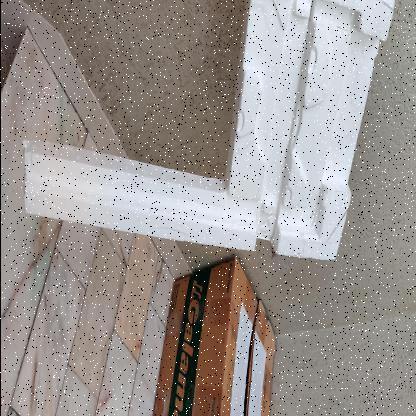cardboard: (149, 256, 277, 415)
foam: (21, 0, 399, 264)
